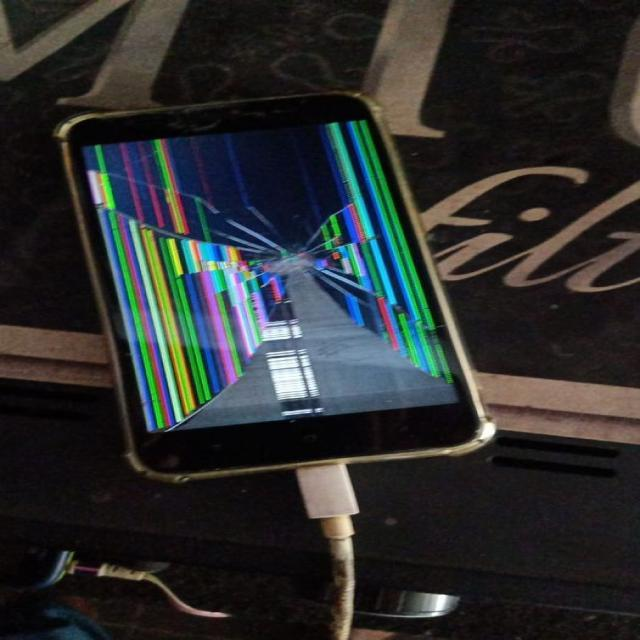phone: (53, 113, 510, 460)
